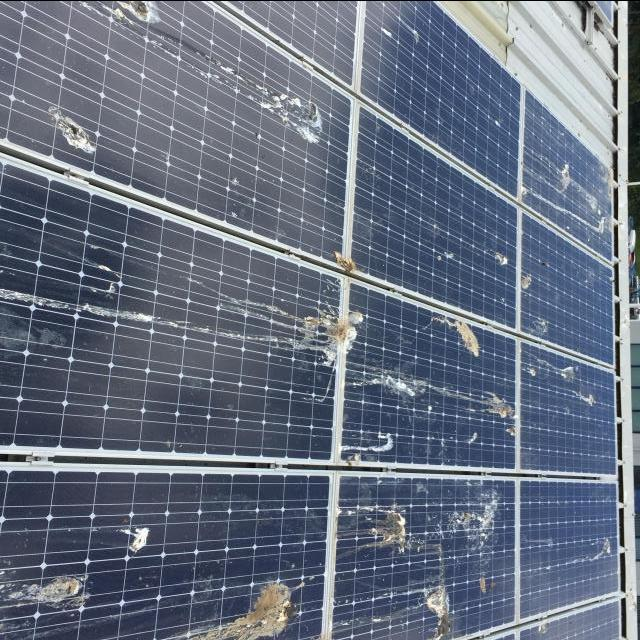soiled: (0, 186, 340, 463), (0, 2, 354, 258), (0, 470, 330, 640), (341, 101, 517, 326), (359, 1, 520, 199), (336, 289, 509, 472), (328, 476, 518, 640), (516, 94, 616, 256), (520, 482, 617, 640), (516, 214, 614, 363), (518, 346, 616, 474)
